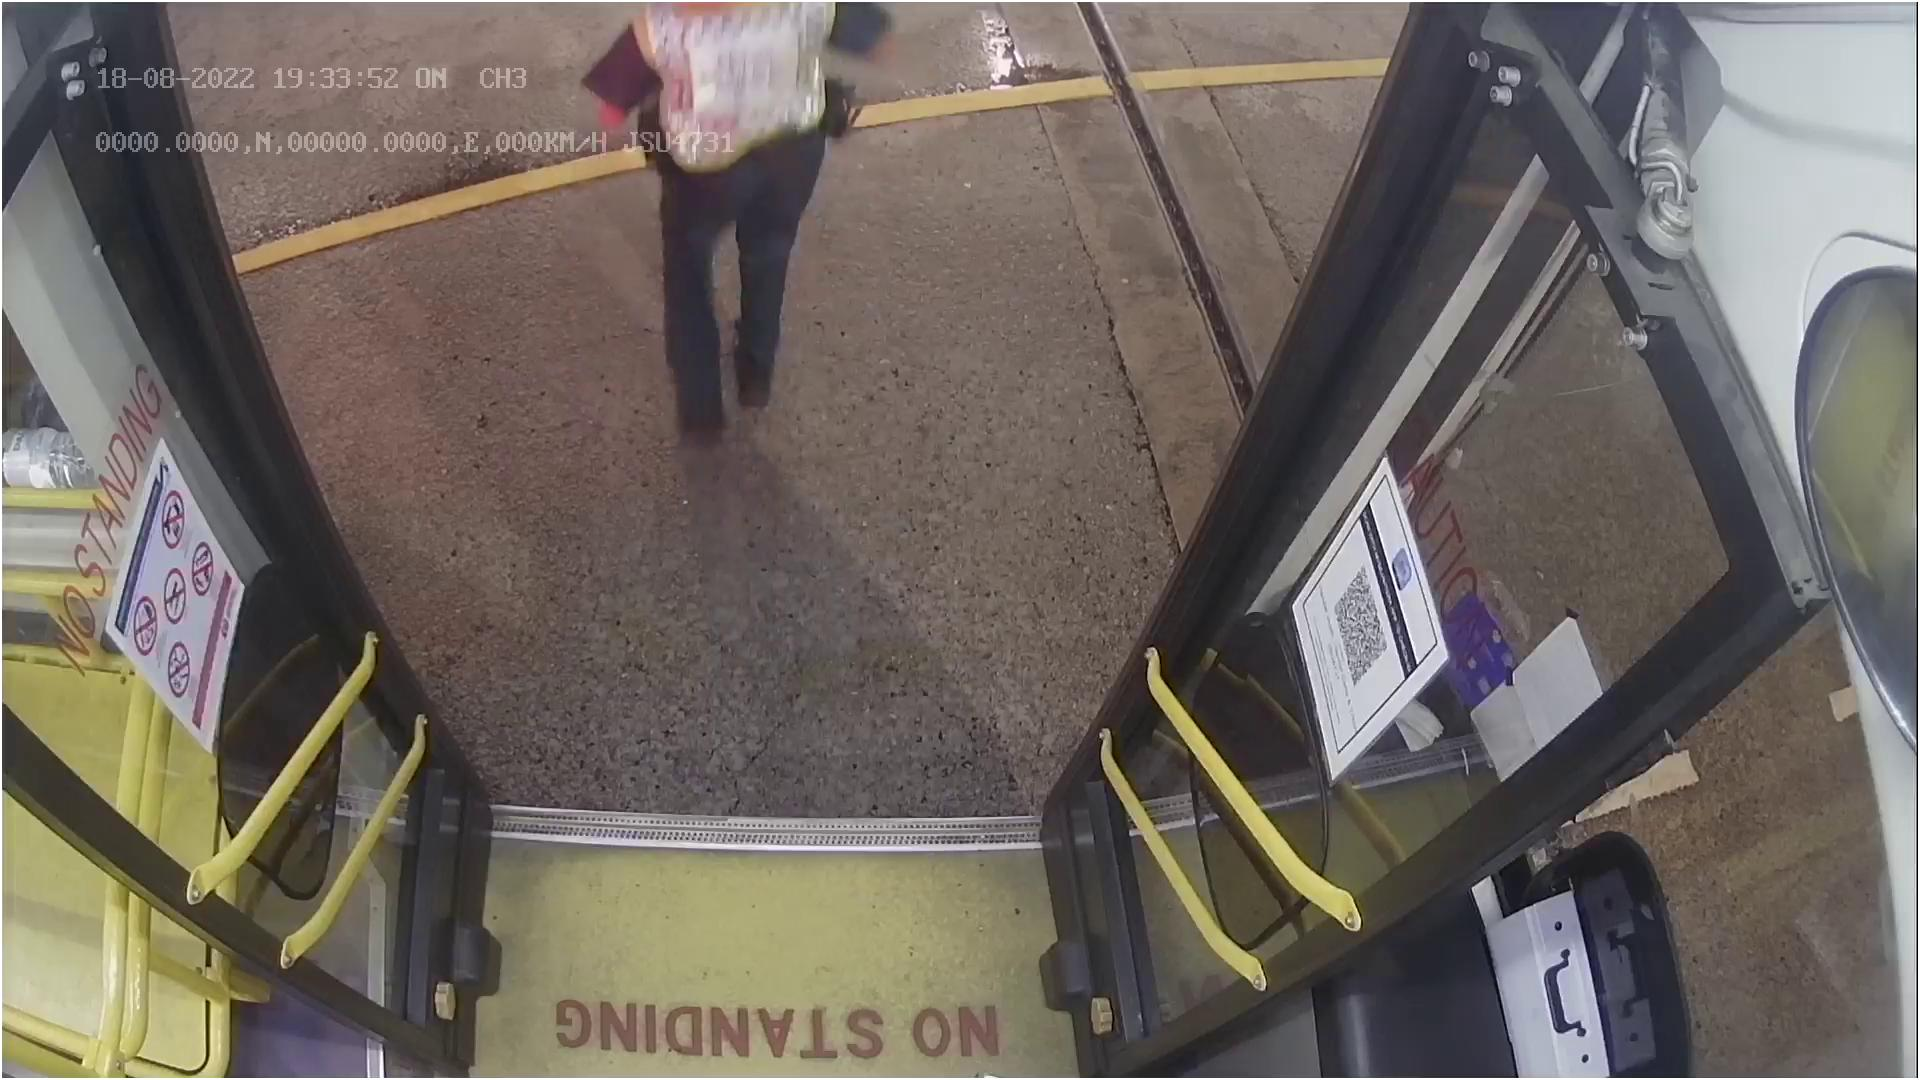open: (177, 0, 1396, 158)
